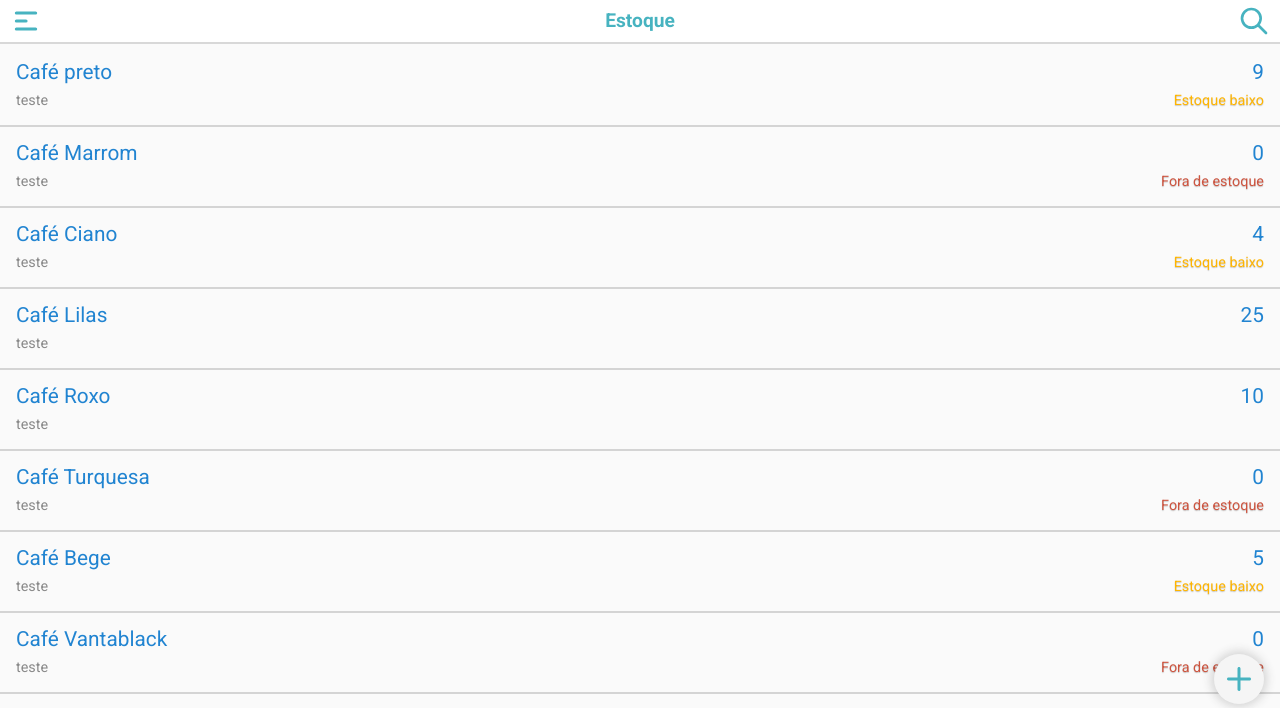
Home › Product List › should be possible view product info
The width and height of the screenshot is (1280, 708).
Click the element showing "Café preto 9 teste Estoque baixo" at [640, 84], box top-left (0, 44), bottom-right (1279, 125)
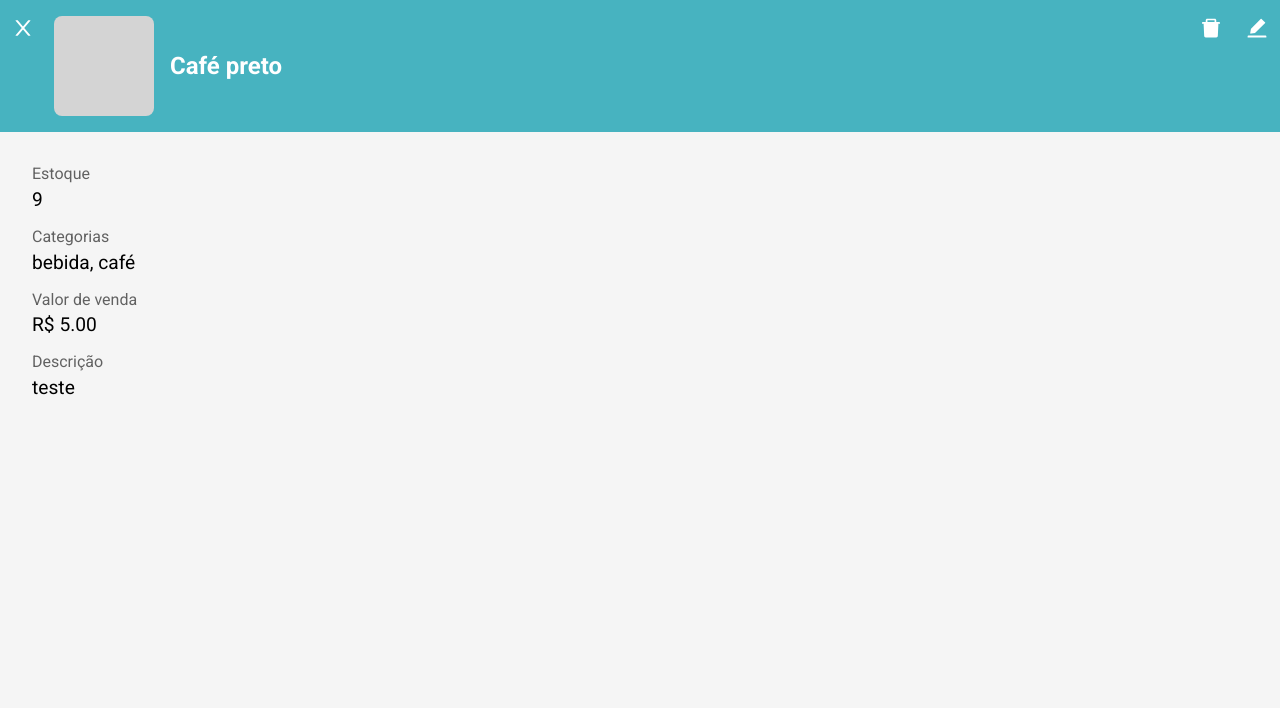
Now the text "R$ 5.00" is shown, box top-left (32, 313), bottom-right (97, 336)
Now the text "bebida, café" is shown, box top-left (32, 251), bottom-right (135, 274)
